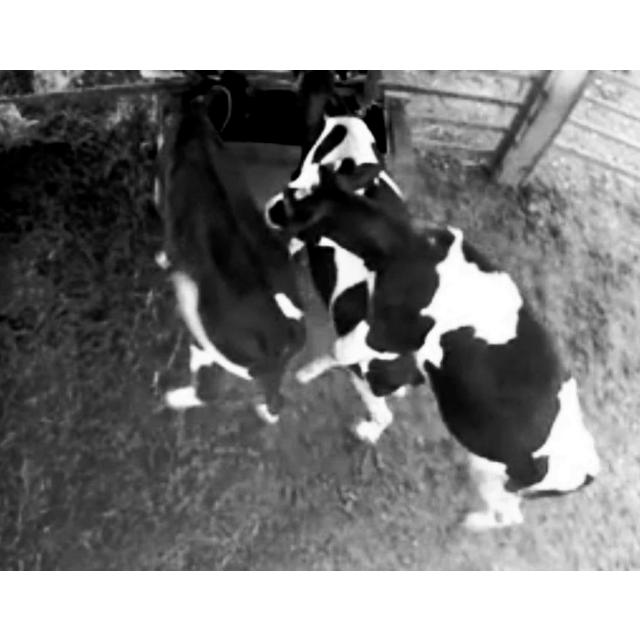drink: (164, 72, 270, 164), (284, 69, 396, 113)
